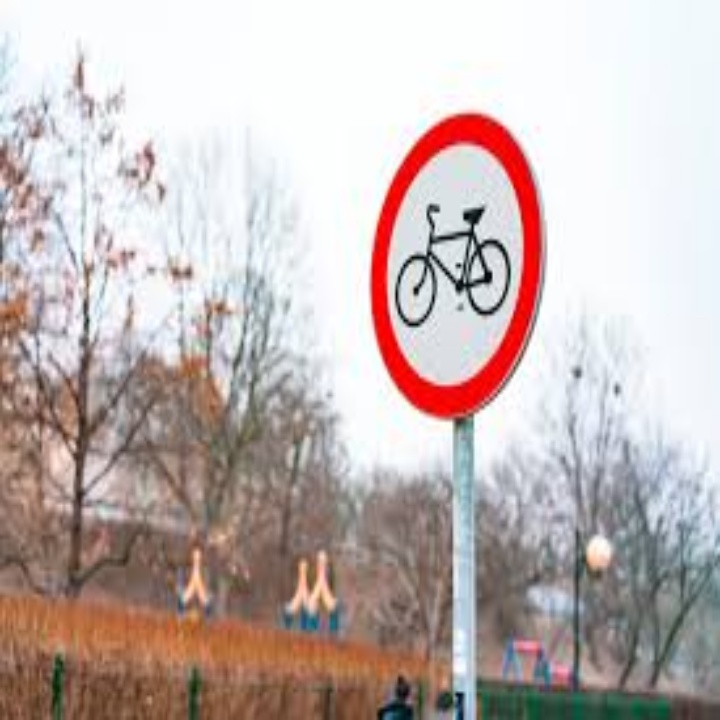bicycle: (381, 187, 523, 329)
